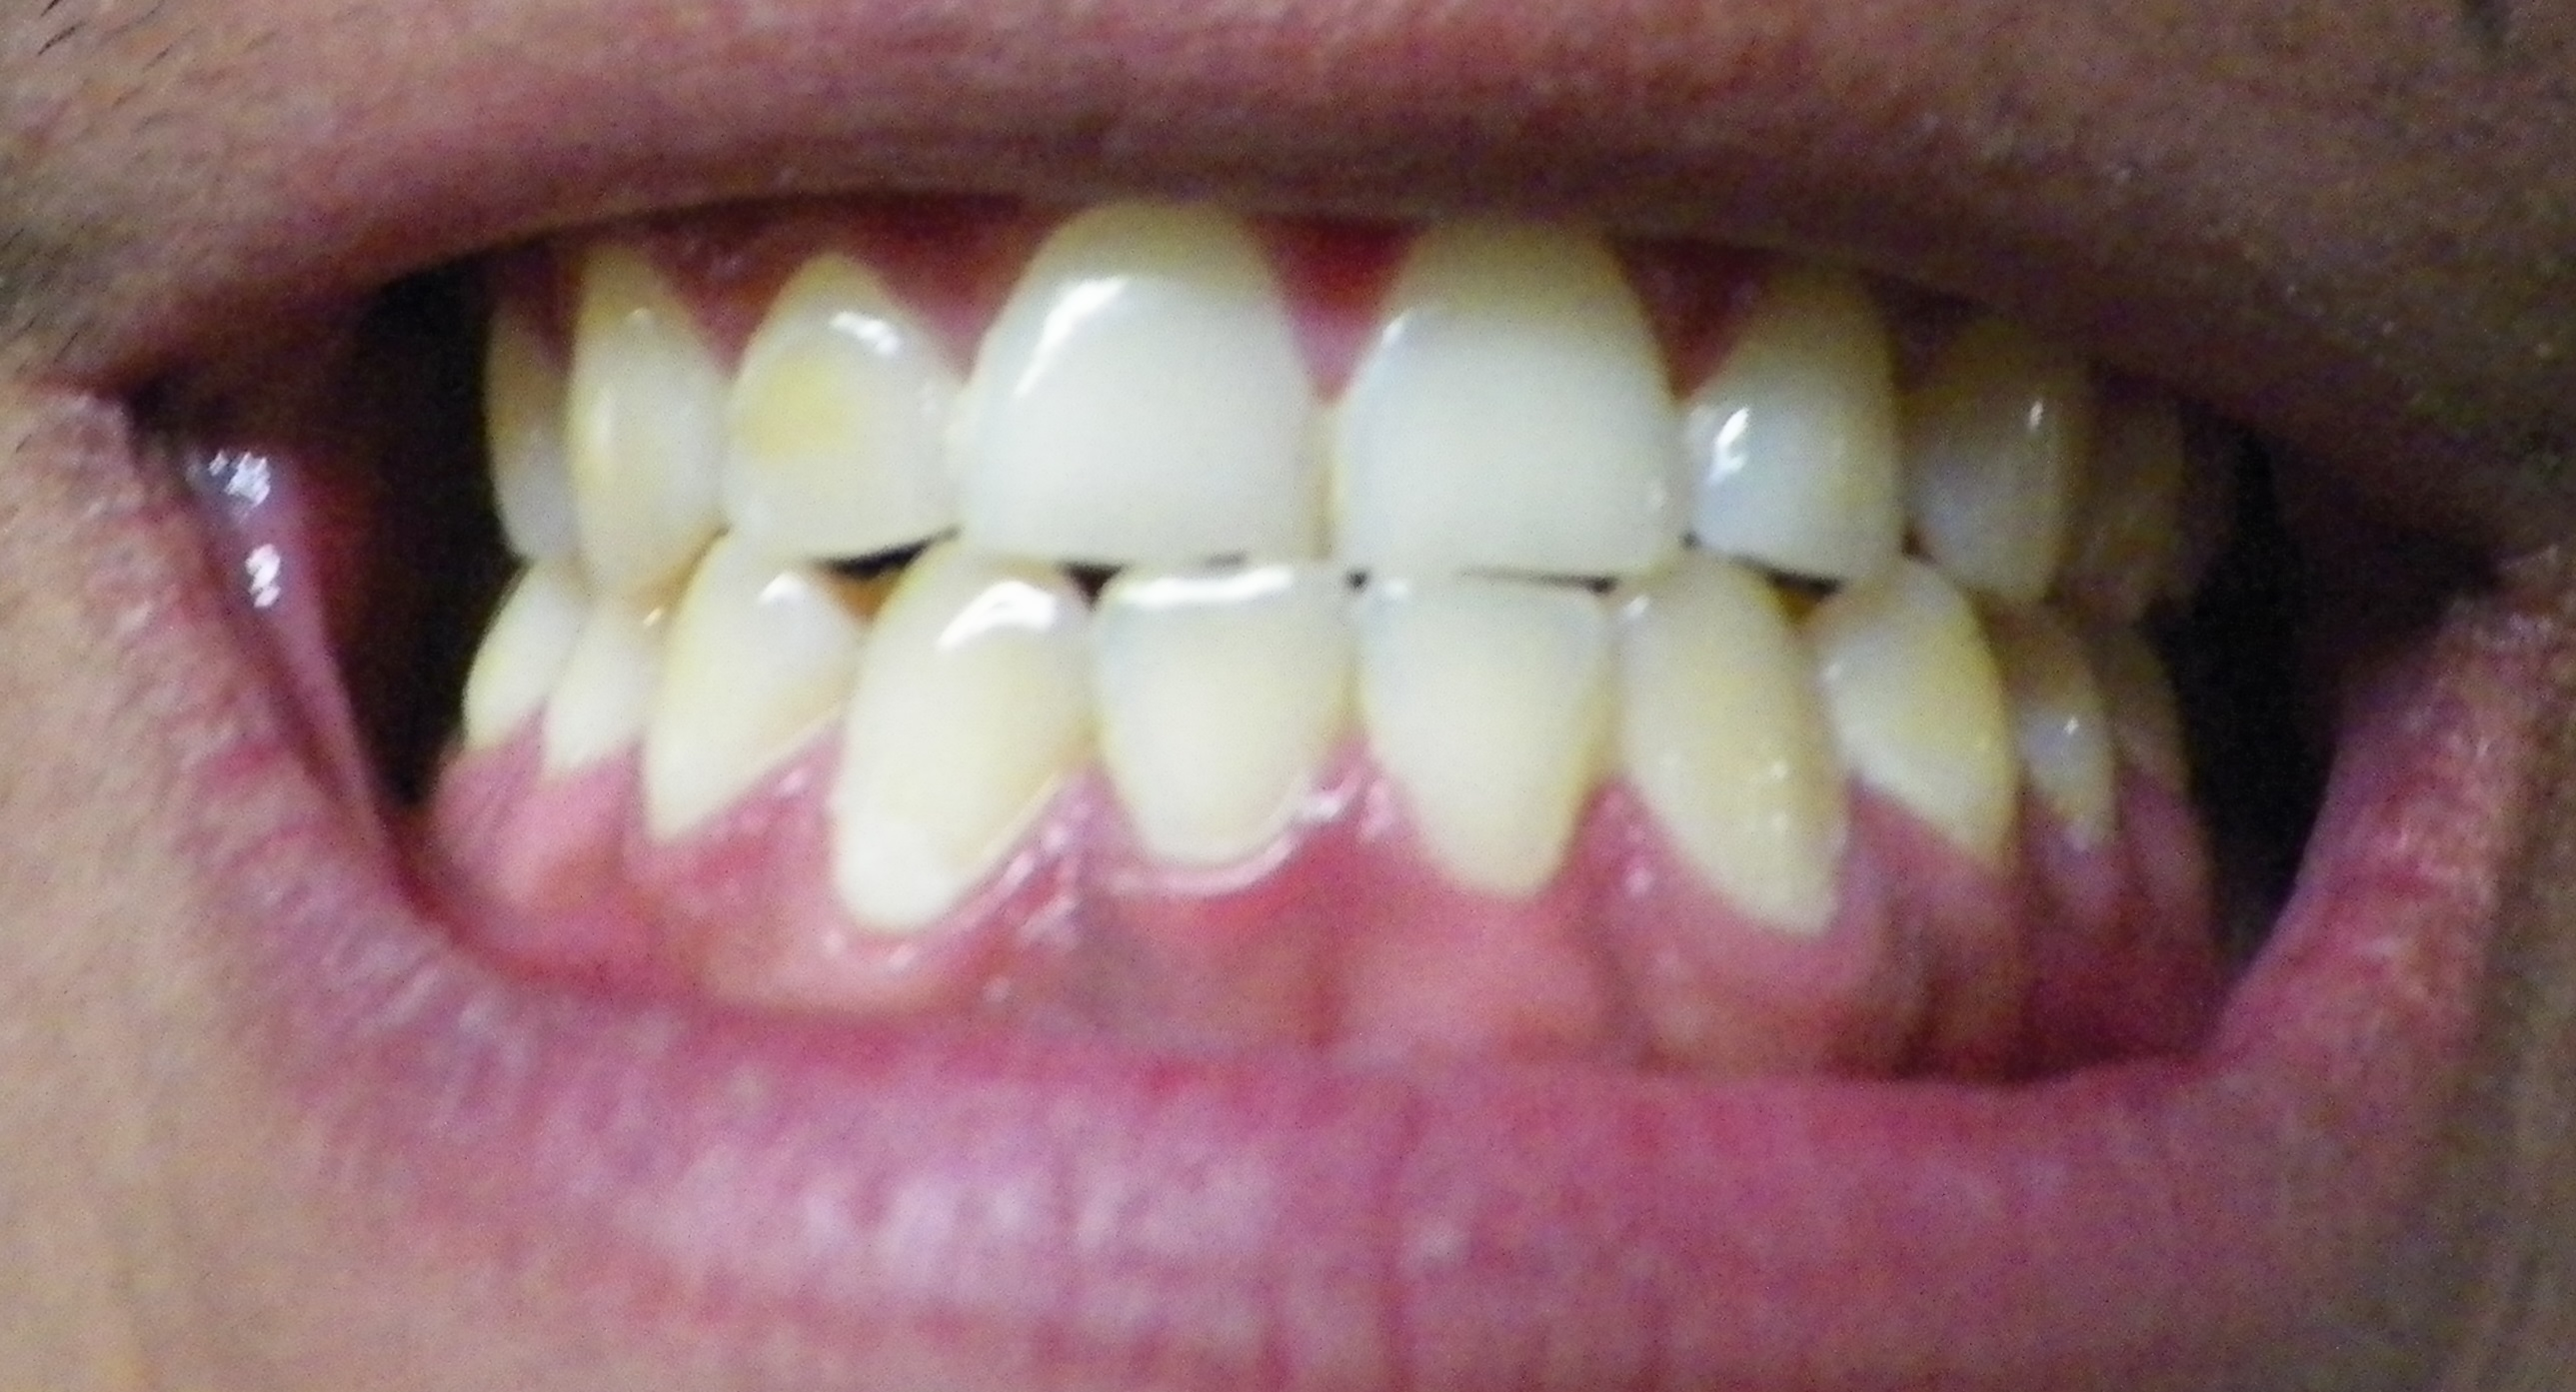boca: (428, 252, 2194, 912)
